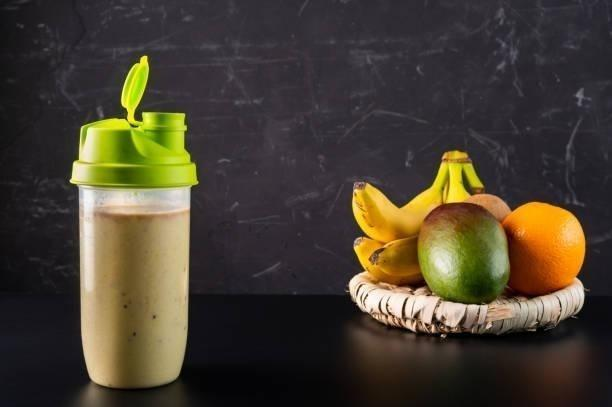gym bottle: (69, 110, 199, 391)
